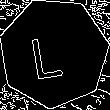L_N: (35, 26, 74, 80)
